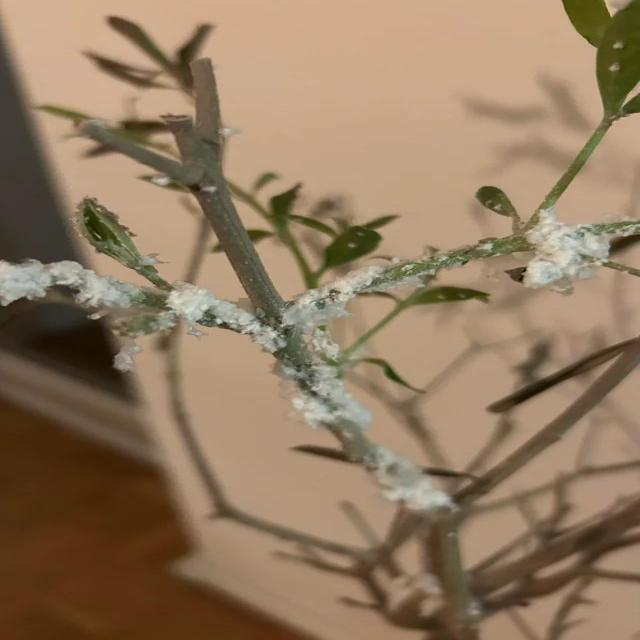Psyllid: (282, 208, 639, 334), (274, 359, 459, 522), (0, 258, 156, 319), (161, 283, 285, 353)
